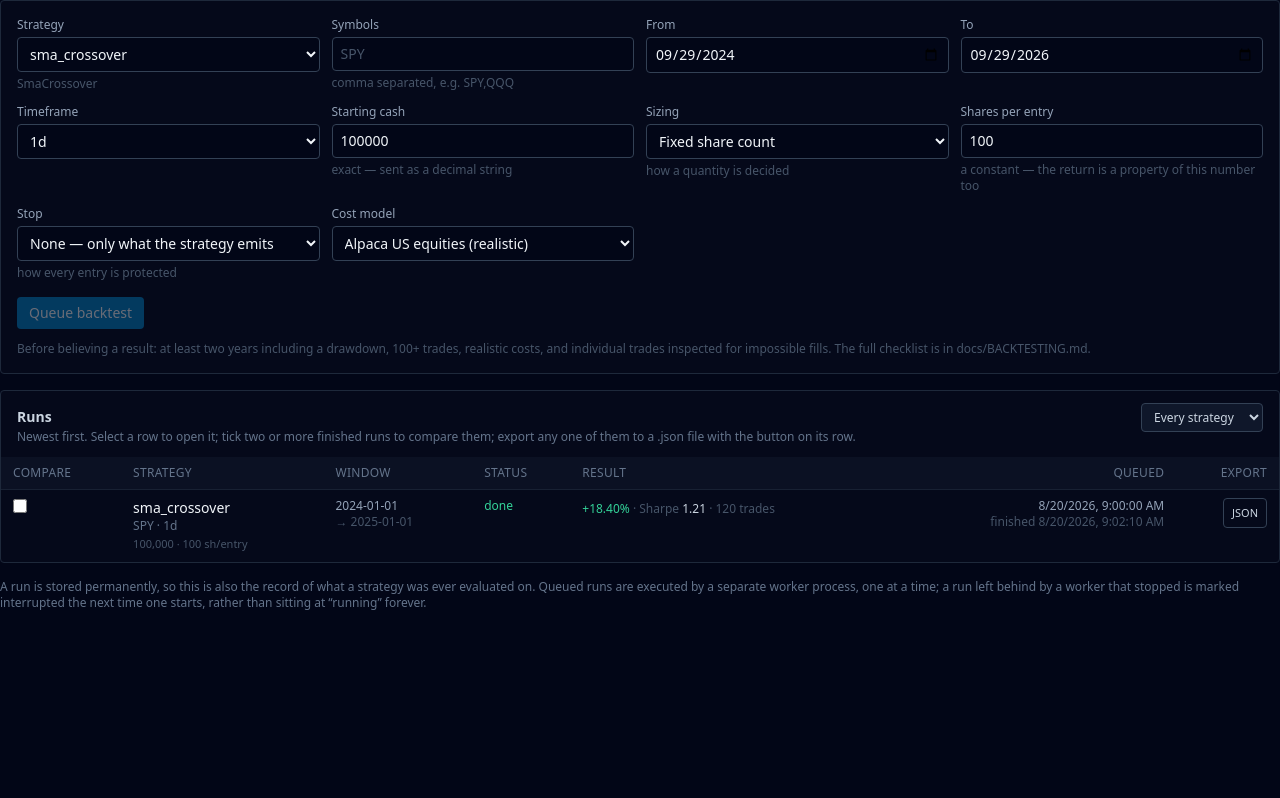
what a run's return is actually made of › says how much of a return is a position rather than a track record
Click the text "2024-01-01" at (398, 526), box [324,490,472,562]
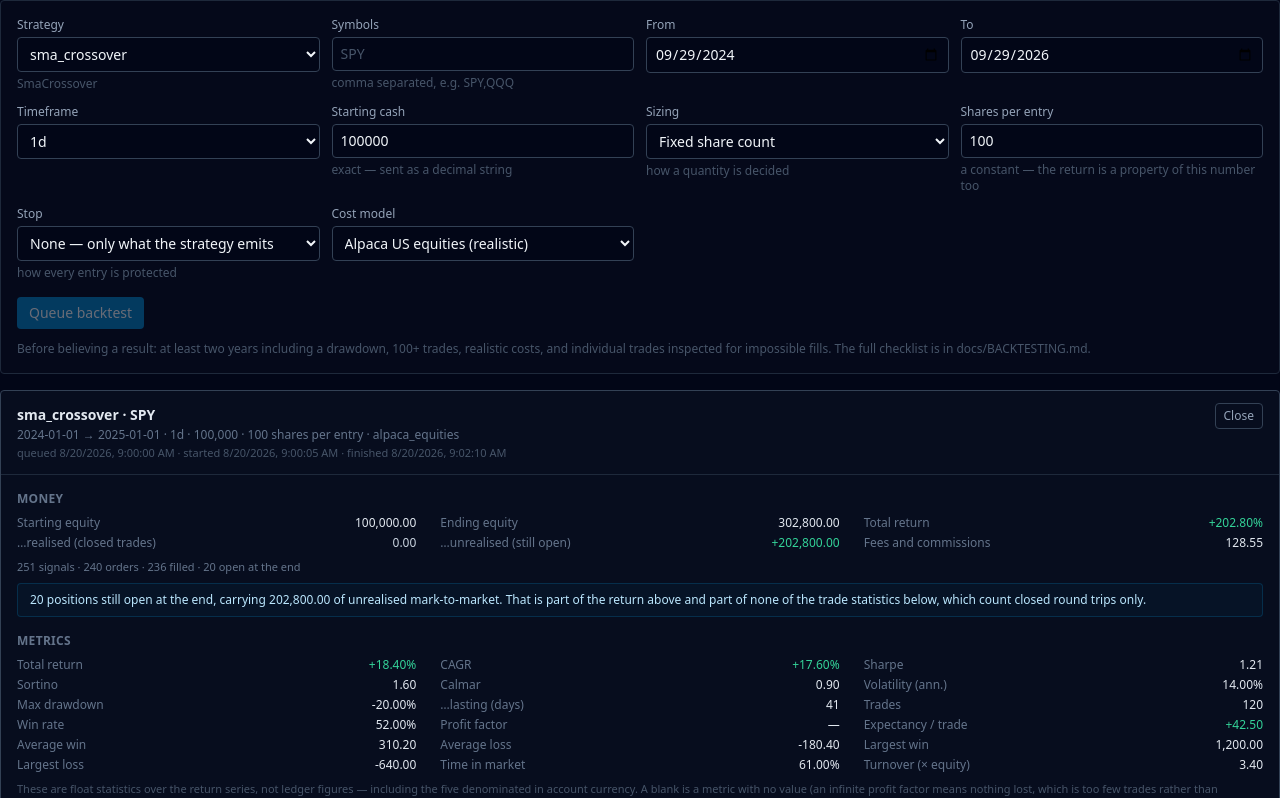
Expected: the text "20 positions still open at the end" shows "202,800.00 of unrealised mark-to-market", [17,583,1263,617]
Expected: the text "20 positions still open at the end" shows "count closed round trips only", [330,591,1146,608]
